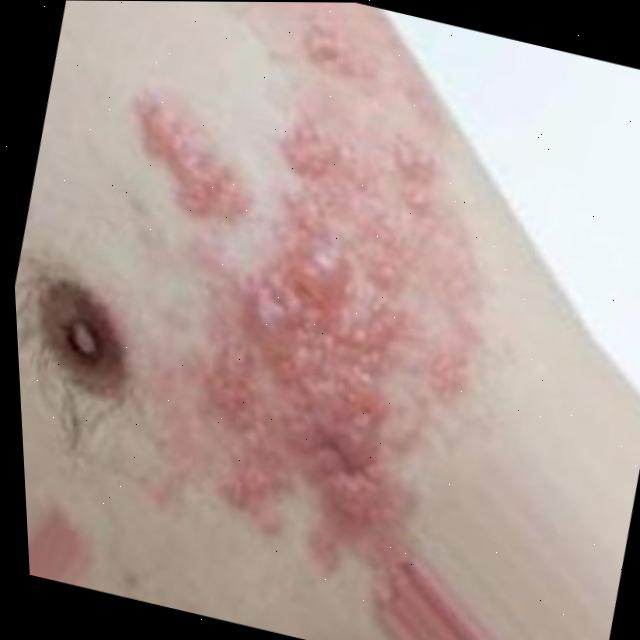Shingles: (40, 0, 543, 599)
